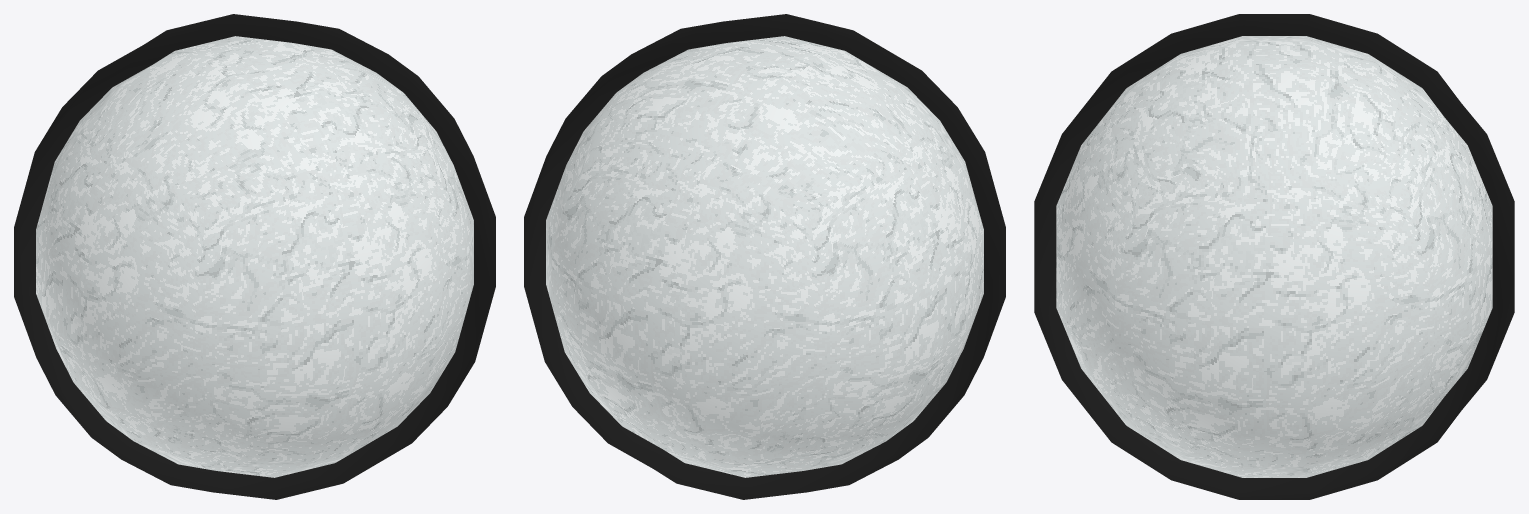
The model's file is pixel_planet_9.glb.
3 renders of one model, left to right at view 1: azimuth 30°, elevation 25°; view 2: azimuth 150°, elevation 25°; view 3: azimuth 270°, elevation 25°, orthographic.
Visible parts, largest first — view 1: Object_2; view 2: Object_2; view 3: Object_2.
Part boxes in pixels (x1,y1,x2,y2): Object_2: (14, 14, 495, 499); Object_2: (524, 14, 1005, 499); Object_2: (1034, 14, 1514, 499).
Bounding box in the file's own units: 3.7 × 3.7 × 3.7.
Materials: 1 (1 with a texture image).
